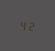four: (19, 19, 26, 30)
two: (27, 20, 34, 31)
